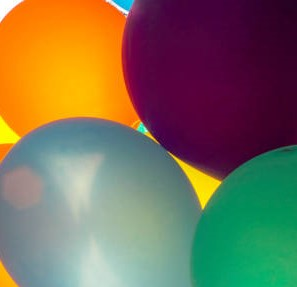Balloon: (1, 118, 202, 287), (121, 1, 297, 179), (1, 1, 138, 132), (190, 145, 297, 287)
